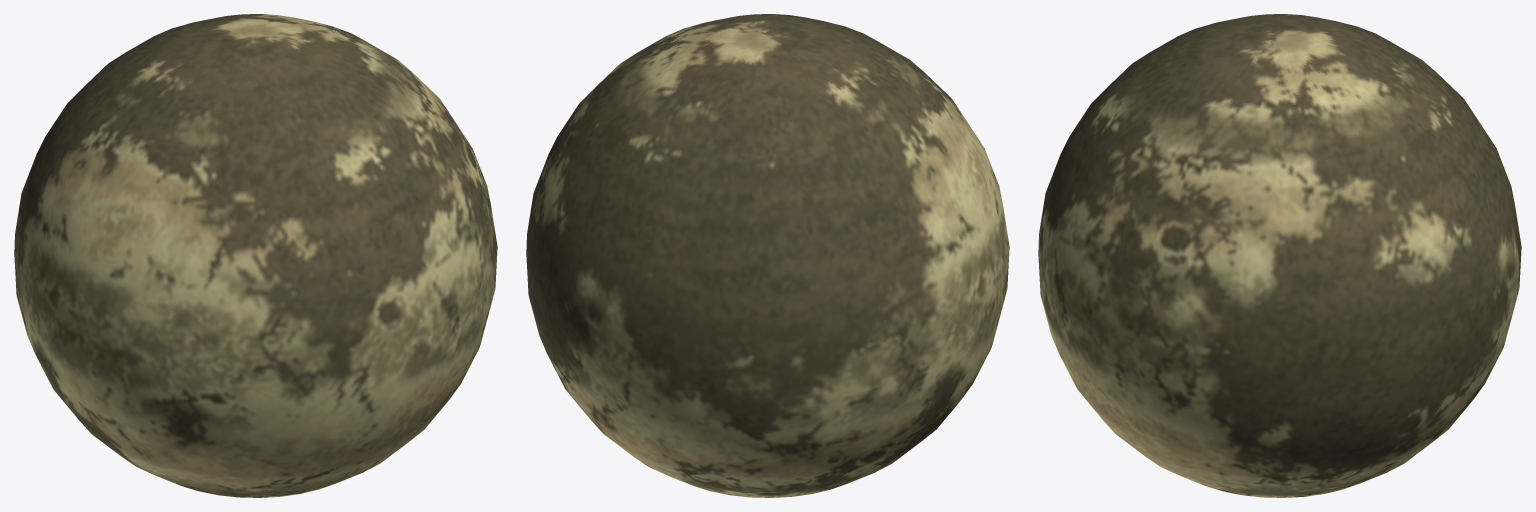
File: planet4.glb
3 renders of one model, left to right at view 1: azimuth 30°, elevation 25°; view 2: azimuth 150°, elevation 25°; view 3: azimuth 270°, elevation 25°, orthographic.
Visible parts, largest first — view 1: Sphere001; view 2: Sphere001; view 3: Sphere001.
Part boxes in pixels (left/top/right/bottom): Sphere001: left=14, top=14, right=497, bottom=497; Sphere001: left=526, top=14, right=1009, bottom=497; Sphere001: left=1038, top=14, right=1521, bottom=497.
Size of the model in its own units: 124 by 124 by 124.
1 material, 1 textured.
